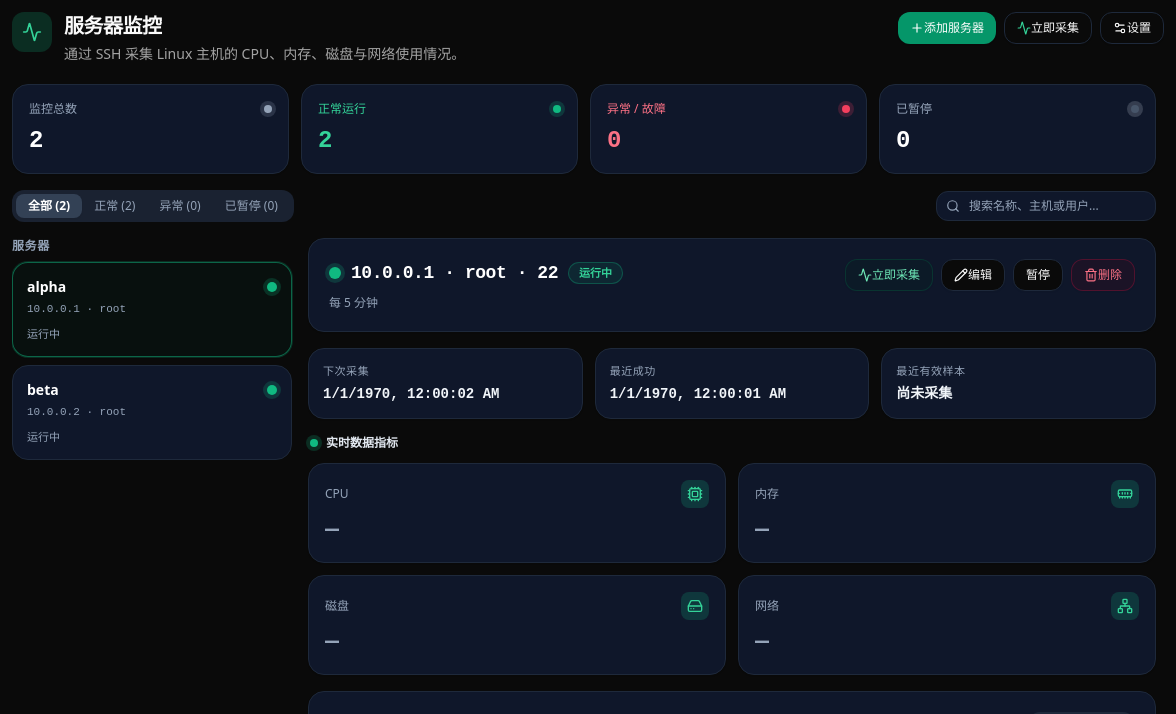
Test: ServerMonitorTool › search query filters the target list
Expected: the text "alpha" is shown, x1=27 y1=277 x2=66 y2=297
Expected: the text "beta" is shown, x1=27 y1=380 x2=59 y2=400
Type "beta" into the field with placeholder "搜索名称、主机或用户...". click: coordinates (1046, 206)
box: x1=936 y1=191 x2=1156 y2=221
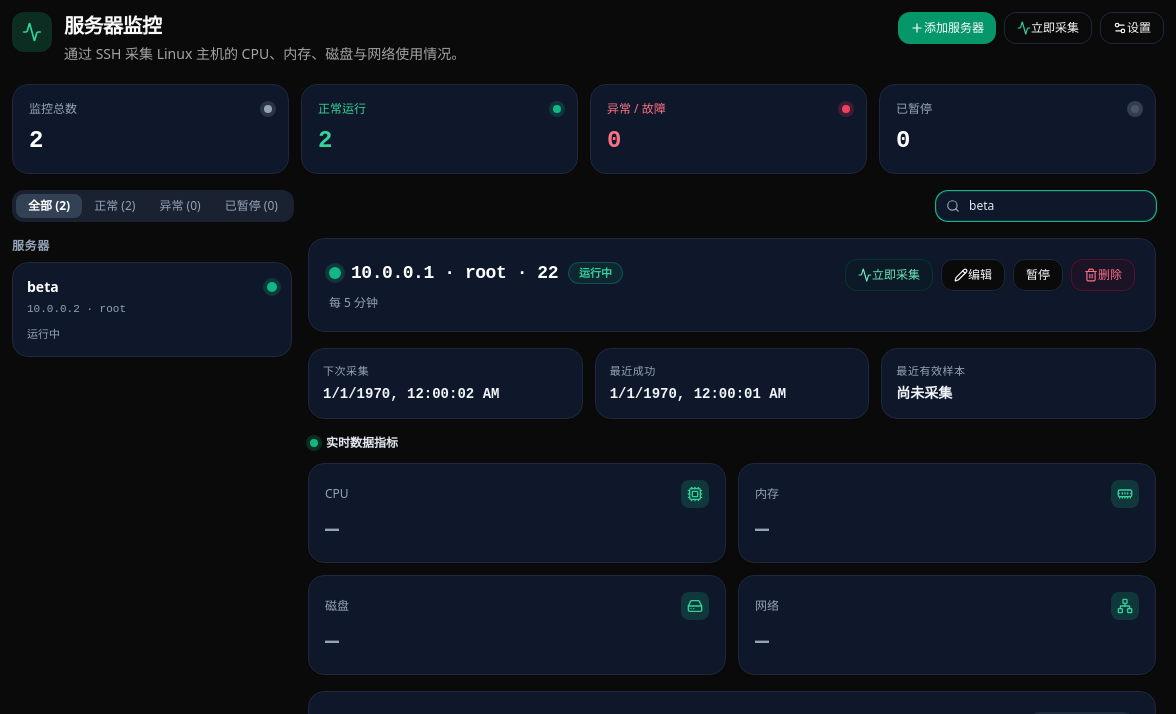
Expected: the text "beta" is shown, x1=27 y1=277 x2=59 y2=297
Expected: the button "alpha" is gone
